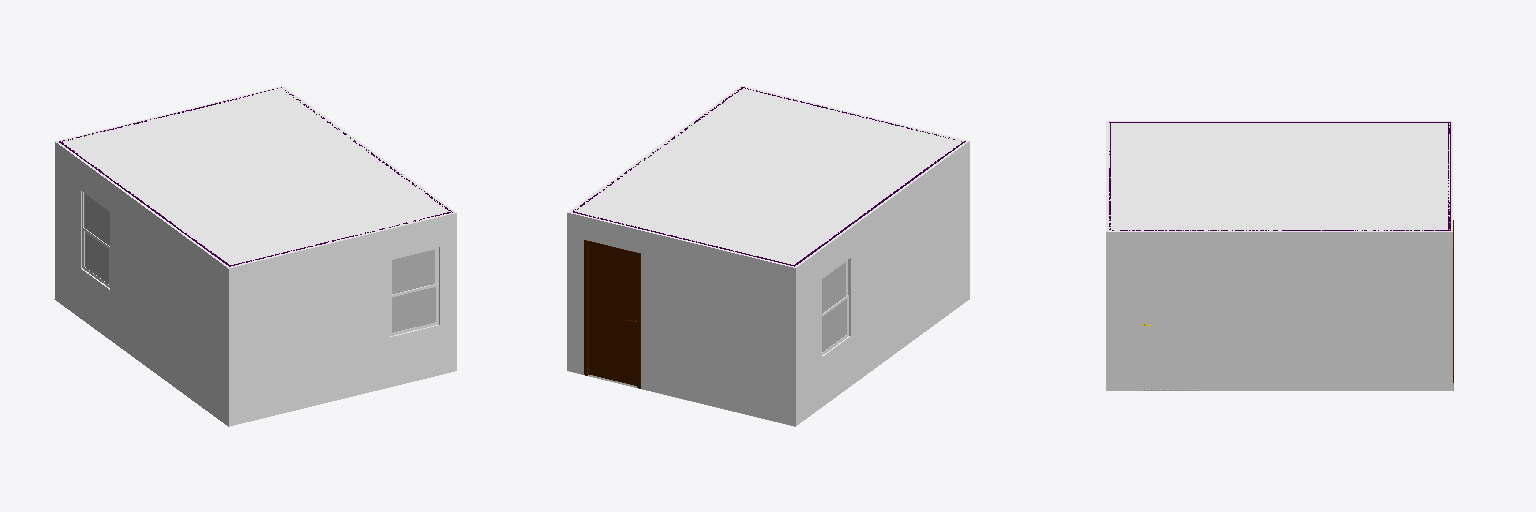
3 renders of one model, left to right at view 1: azimuth 30°, elevation 25°; view 2: azimuth 150°, elevation 25°; view 3: azimuth 270°, elevation 25°, orthographic.
Parts seen in each view (by area): view 1: room_5_27, wall_3_16, wall_4_22, sweethome3d_window_pane_on_rail_1_57, sweethome3d_window_pane_54, sweethome3d_window_pane_48, sweethome3d_window_pane_on_rail_1_51; view 2: room_5_27, wall_1_4, wall_4_22, sweethome3d_opening_on_hinge_1_door_45, frame_37, sweethome3d_window_pane_on_rail_1_51, sweethome3d_window_pane_48; view 3: wall_2_10, room_5_27, sweethome3d_opening_on_hinge_1_door_36, frame_28.
Boxes of the visible parts, x1=… form: room_5_27: x1=61, y1=87, x2=453, y2=266; wall_3_16: x1=229, y1=213, x2=456, y2=426; wall_4_22: x1=55, y1=142, x2=228, y2=426; sweethome3d_window_pane_on_rail_1_57: x1=392, y1=287, x2=435, y2=332; sweethome3d_window_pane_54: x1=392, y1=250, x2=434, y2=293; sweethome3d_window_pane_48: x1=85, y1=194, x2=109, y2=245; sweethome3d_window_pane_on_rail_1_51: x1=85, y1=232, x2=108, y2=283; room_5_27: x1=572, y1=87, x2=963, y2=264; wall_1_4: x1=567, y1=213, x2=795, y2=426; wall_4_22: x1=796, y1=141, x2=969, y2=425; sweethome3d_opening_on_hinge_1_door_45: x1=589, y1=245, x2=636, y2=385; frame_37: x1=584, y1=240, x2=640, y2=388; sweethome3d_window_pane_on_rail_1_51: x1=822, y1=299, x2=846, y2=351; sweethome3d_window_pane_48: x1=822, y1=262, x2=845, y2=313; wall_2_10: x1=1106, y1=232, x2=1452, y2=390; room_5_27: x1=1108, y1=123, x2=1449, y2=231; sweethome3d_opening_on_hinge_1_door_36: x1=1142, y1=259, x2=1199, y2=388; frame_28: x1=1138, y1=256, x2=1202, y2=390.
Size of the model in its own units: 369 by 244 by 486.
9 materials, 1 textured.